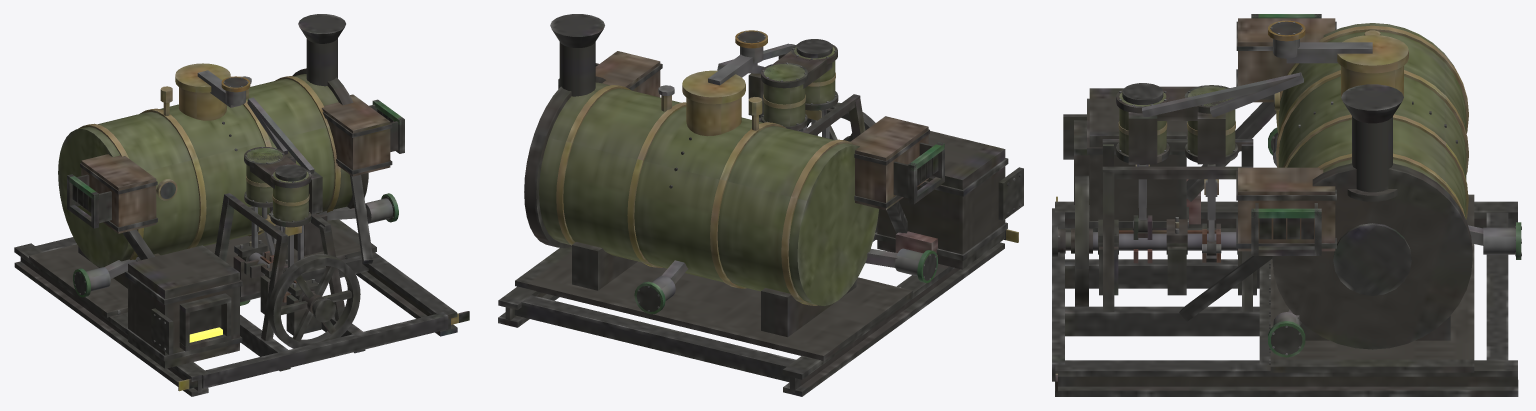
The model's file is feSteamEngine.glb.
3 views of the same model, side by side, from view 1: azimuth 30°, elevation 25°; view 2: azimuth 150°, elevation 25°; view 3: azimuth 270°, elevation 25° (orthographic). The views are drawn at different scales.
Visible parts, largest first — view 1: feSteamEngine_Base, FeSpin_SteamFlywheel, FeCrosshead_2; view 2: feSteamEngine_Base, FeCrosshead_2; view 3: feSteamEngine_Base, FeSpin_SteamFlywheel, FeCrosshead_2.
Part boxes in pixels (left/top/right/bottom): feSteamEngine_Base: left=14, top=14, right=469, bottom=396; FeSpin_SteamFlywheel: left=237, top=251, right=360, bottom=348; FeCrosshead_2: left=275, top=164, right=306, bottom=235; feSteamEngine_Base: left=498, top=14, right=1023, bottom=396; FeCrosshead_2: left=796, top=39, right=832, bottom=120; feSteamEngine_Base: left=1052, top=14, right=1521, bottom=396; FeSpin_SteamFlywheel: left=1052, top=175, right=1237, bottom=306; FeCrosshead_2: left=1122, top=83, right=1163, bottom=166.
Bounding box in the file's own units: 3.01 × 2.06 × 3.01.
Materials: 2 (1 with a texture image).
